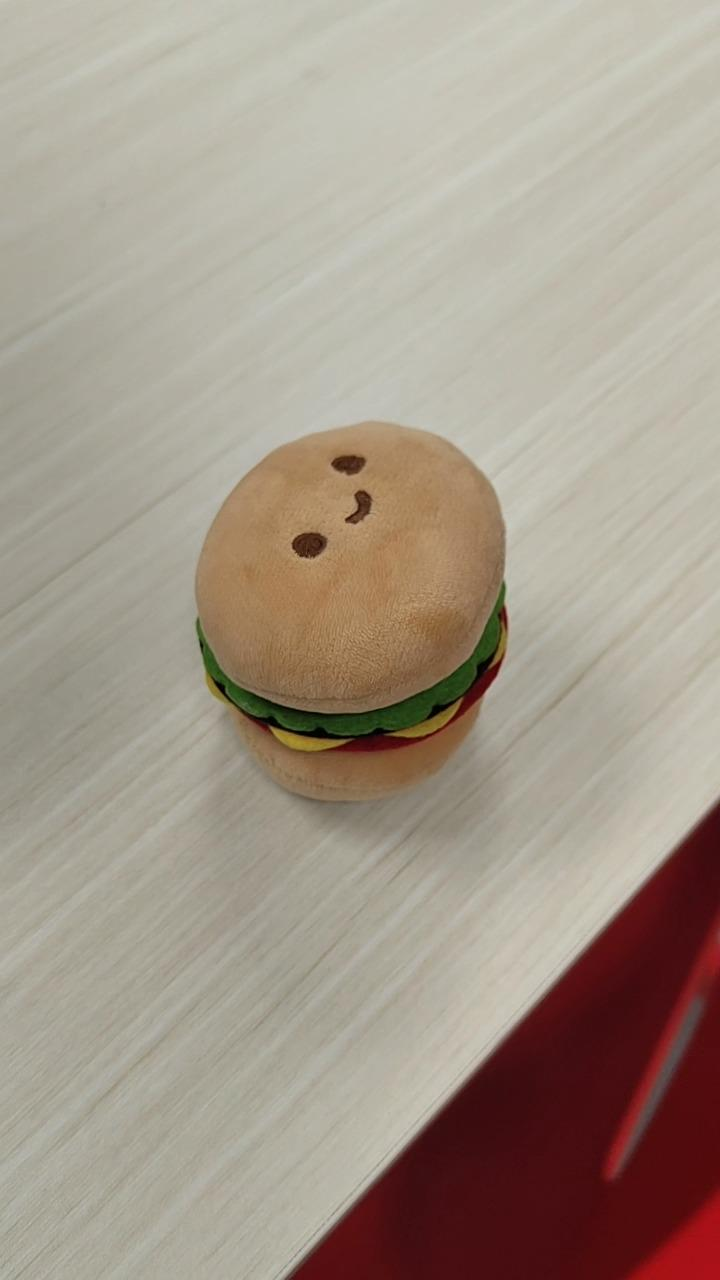hamburger: (193, 418, 509, 803)
